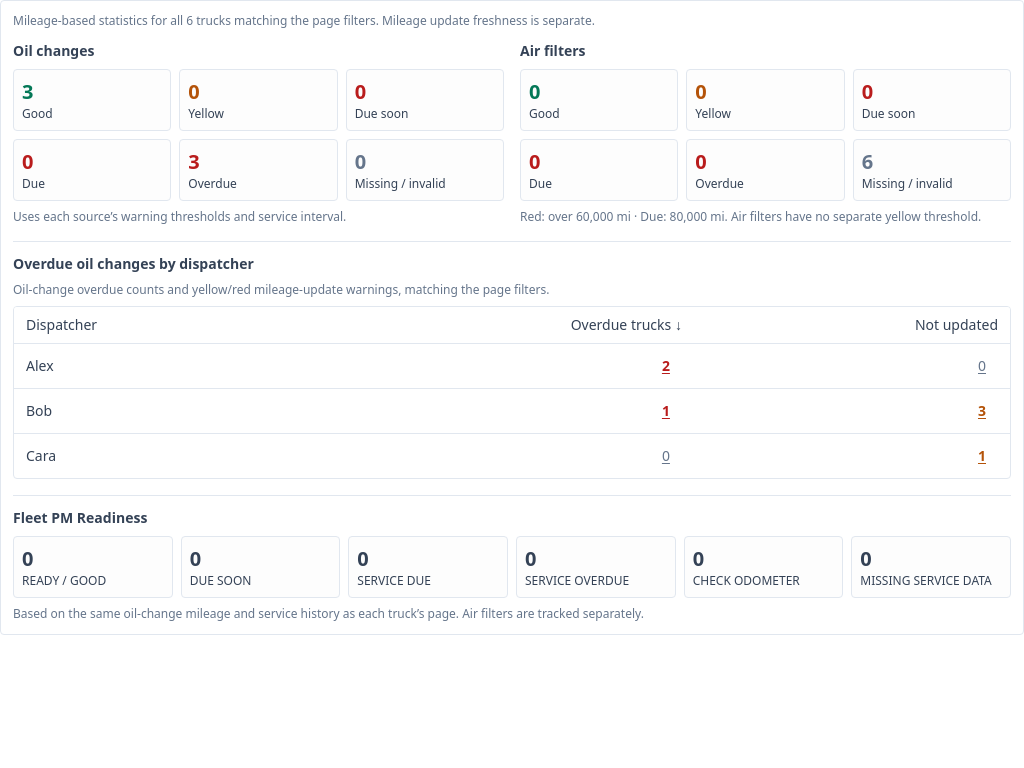
it: sorts both dispatcher count columns in both directions without changing the truck selection
Later steps or results of the test are not shown.
Click the button "Overdue trucks ↓" at (626, 325), box 571,315 -> 682,335
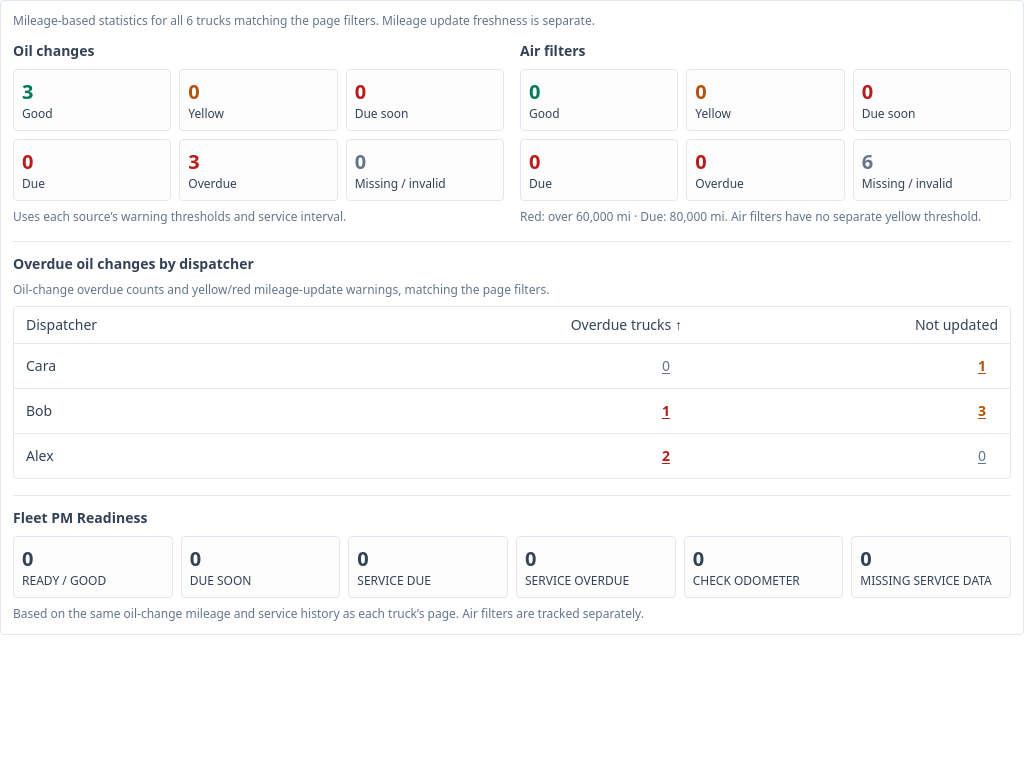
Click the button "Overdue trucks ↑" at (626, 325), box 571,315 -> 682,335
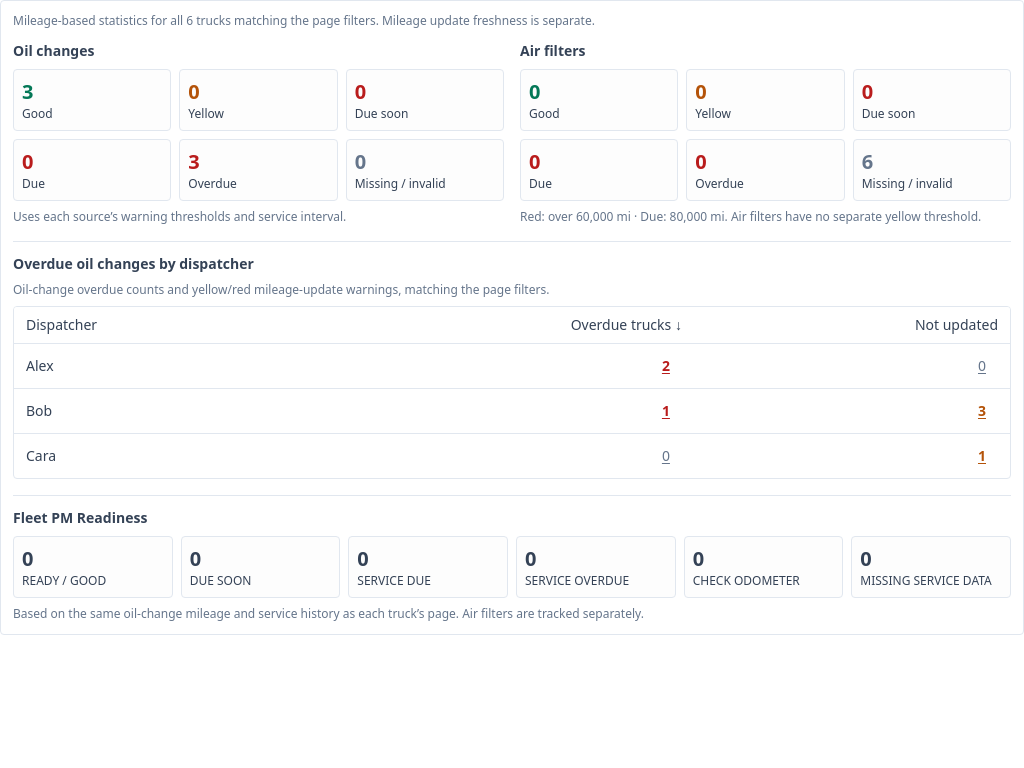
Click the button "Not updated" at (956, 325), box 915,315 -> 998,335
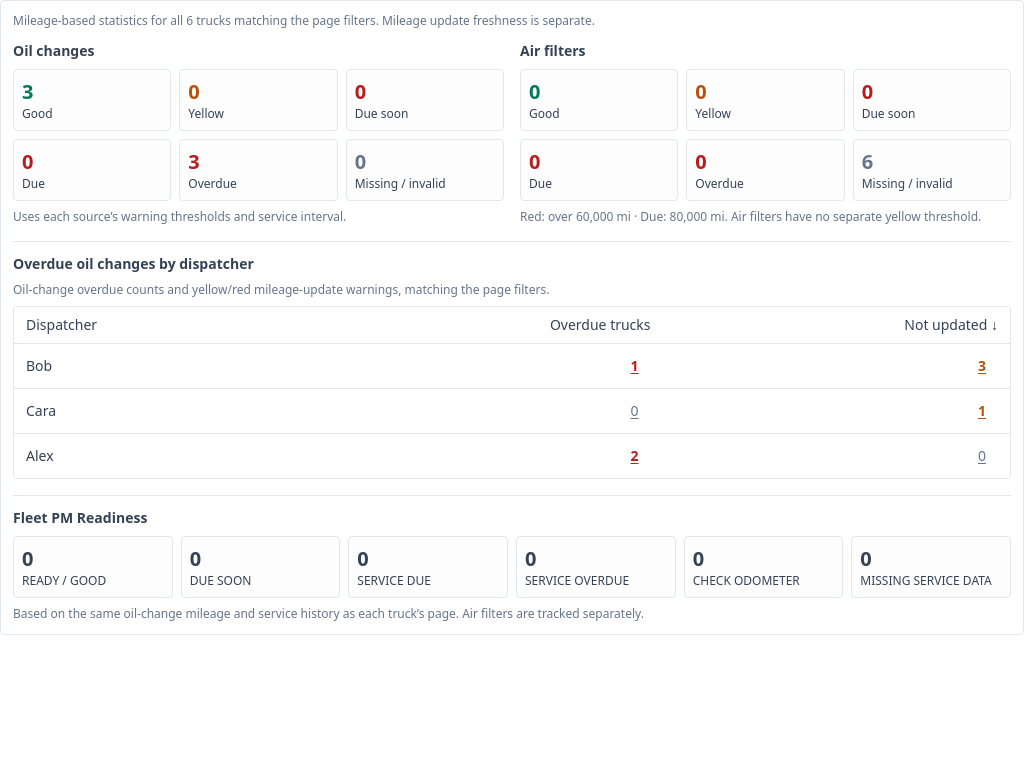
Now the column heading "Not updated" has attribute aria-sort="descending", box 662,307 -> 1010,344
Now the column heading "Overdue trucks" has attribute aria-sort="none", box 295,307 -> 662,344
